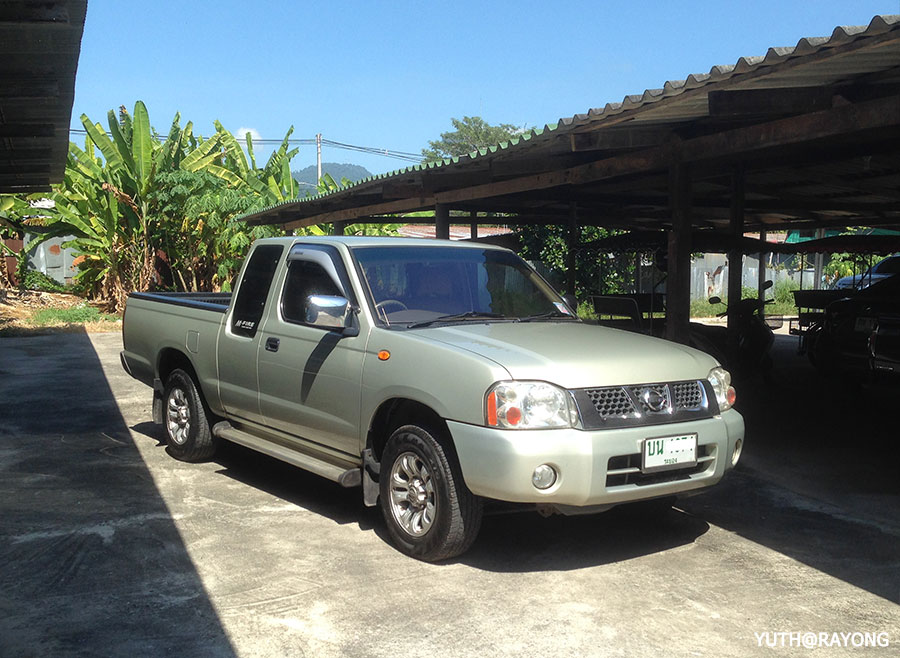pickup: (119, 233, 748, 572)
